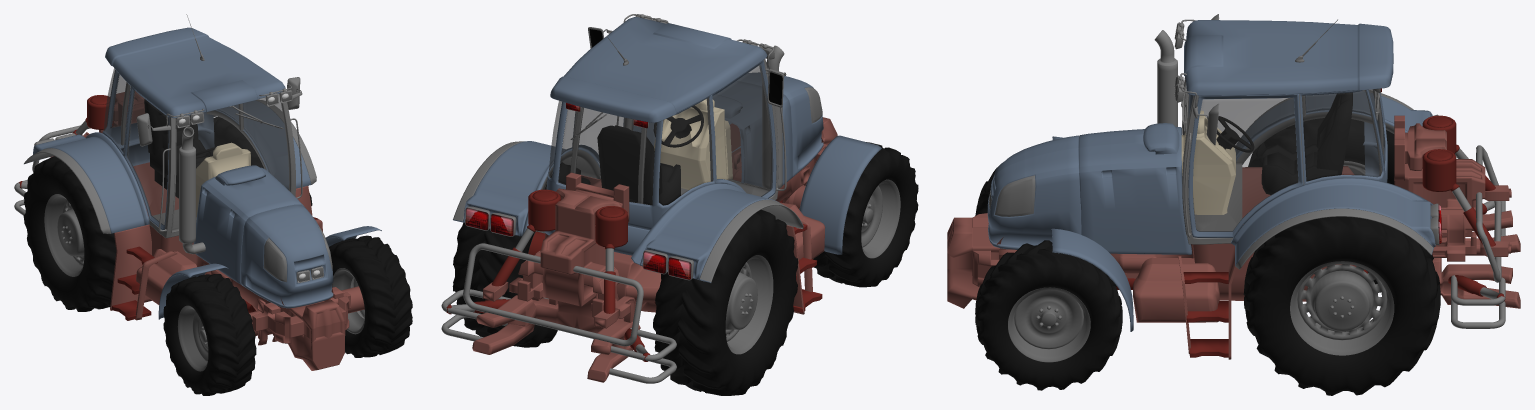
Rendered from Tractor.FBX.
3 views of the same model, side by side, from view 1: azimuth 30°, elevation 25°; view 2: azimuth 150°, elevation 25°; view 3: azimuth 270°, elevation 25° (orthographic). The views are drawn at different scales.
Parts seen in each view (by area): view 1: subD, Non_subD, Non_subD.3, Non_subD.2, subDx, subDx.3, subDx.2; view 2: subD, Non_subD, Non_subD.3, subDx, subDx.3; view 3: subD, Non_subD, Non_subD.2, subDx, subDx.2.
Boxes of the visible parts, x1,y1,x2,y2 form: subD: (14, 14, 381, 370); Non_subD: (23, 116, 312, 311); Non_subD.3: (163, 274, 256, 395); Non_subD.2: (329, 235, 412, 357); subDx: (44, 194, 84, 276); subDx.3: (177, 305, 208, 371); subDx.2: (332, 268, 364, 334); subD: (441, 14, 881, 383); Non_subD: (452, 162, 798, 395); Non_subD.3: (813, 142, 918, 287); subDx: (528, 230, 773, 354); subDx.3: (861, 179, 900, 258); subD: (947, 14, 1520, 359); Non_subD: (1243, 118, 1440, 395); Non_subD.2: (975, 240, 1122, 390); subDx: (1290, 161, 1394, 355); subDx.2: (1008, 287, 1090, 362).
Bounding box in the file's own units: 166 × 193 × 307.
